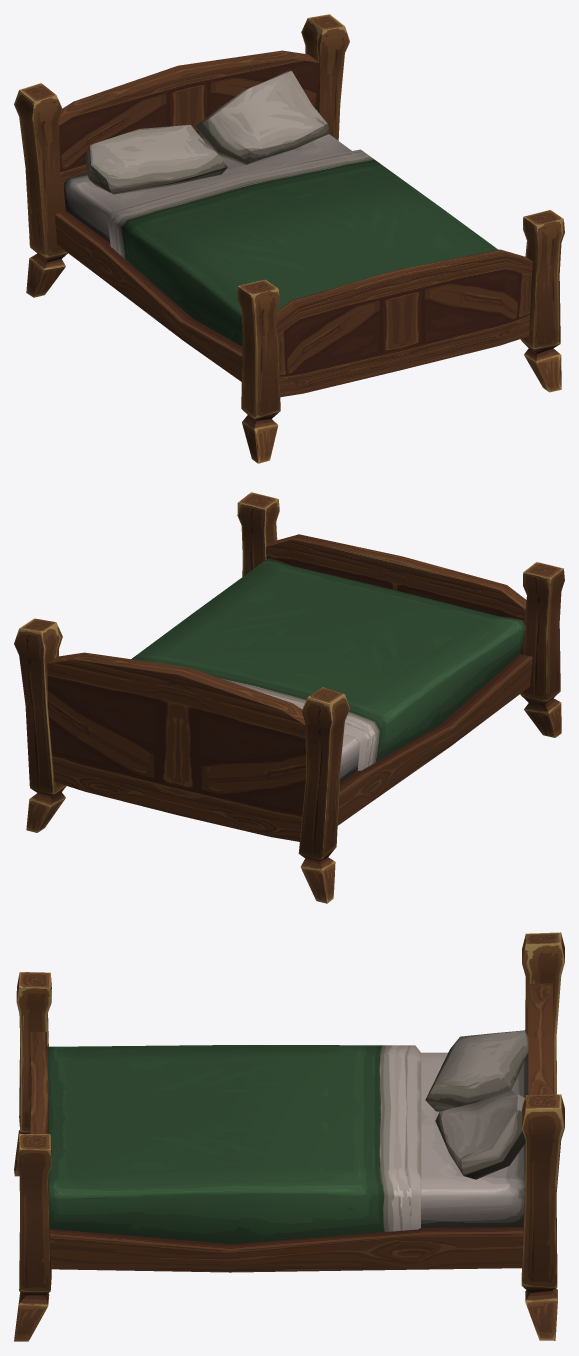
The model's file is SM_PROP_bed_interior_03.fbx.
3 views of the same model, one above another, from view 1: azimuth 30°, elevation 25°; view 2: azimuth 150°, elevation 25°; view 3: azimuth 270°, elevation 25° (orthographic). The views are drawn at different scales.
Parts seen in each view (by area): view 1: SM_PROP_bed_interior_03; view 2: SM_PROP_bed_interior_03; view 3: SM_PROP_bed_interior_03.
Part boxes in pixels (x1=…): SM_PROP_bed_interior_03: x1=14, y1=14, x2=564, y2=463; SM_PROP_bed_interior_03: x1=14, y1=492, x2=564, y2=903; SM_PROP_bed_interior_03: x1=14, y1=932, x2=564, y2=1341.
Size of the model in its own units: 184 by 113 by 238.
